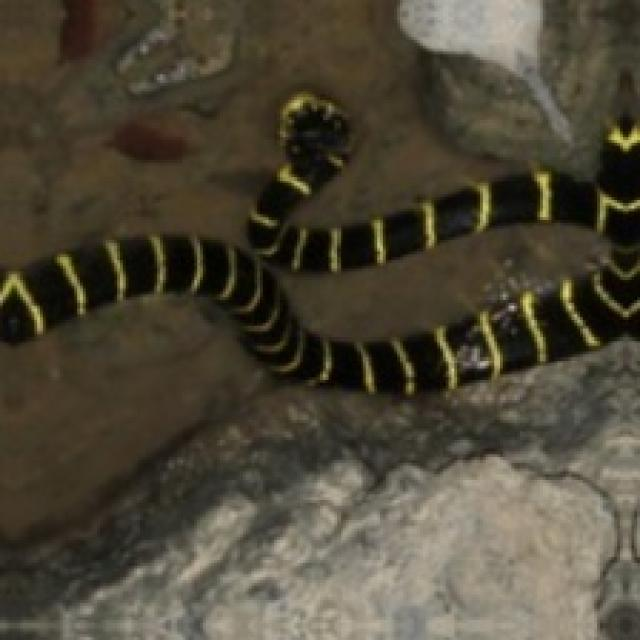mangrove cat snake: (0, 91, 637, 391), (266, 217, 611, 340)
